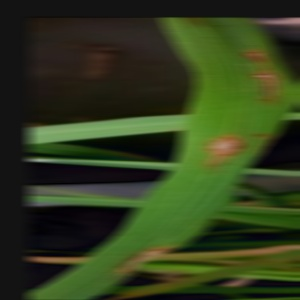Brown_Spot: (112, 240, 186, 290), (191, 129, 252, 177), (253, 58, 288, 100), (248, 127, 284, 167), (244, 42, 287, 66)
